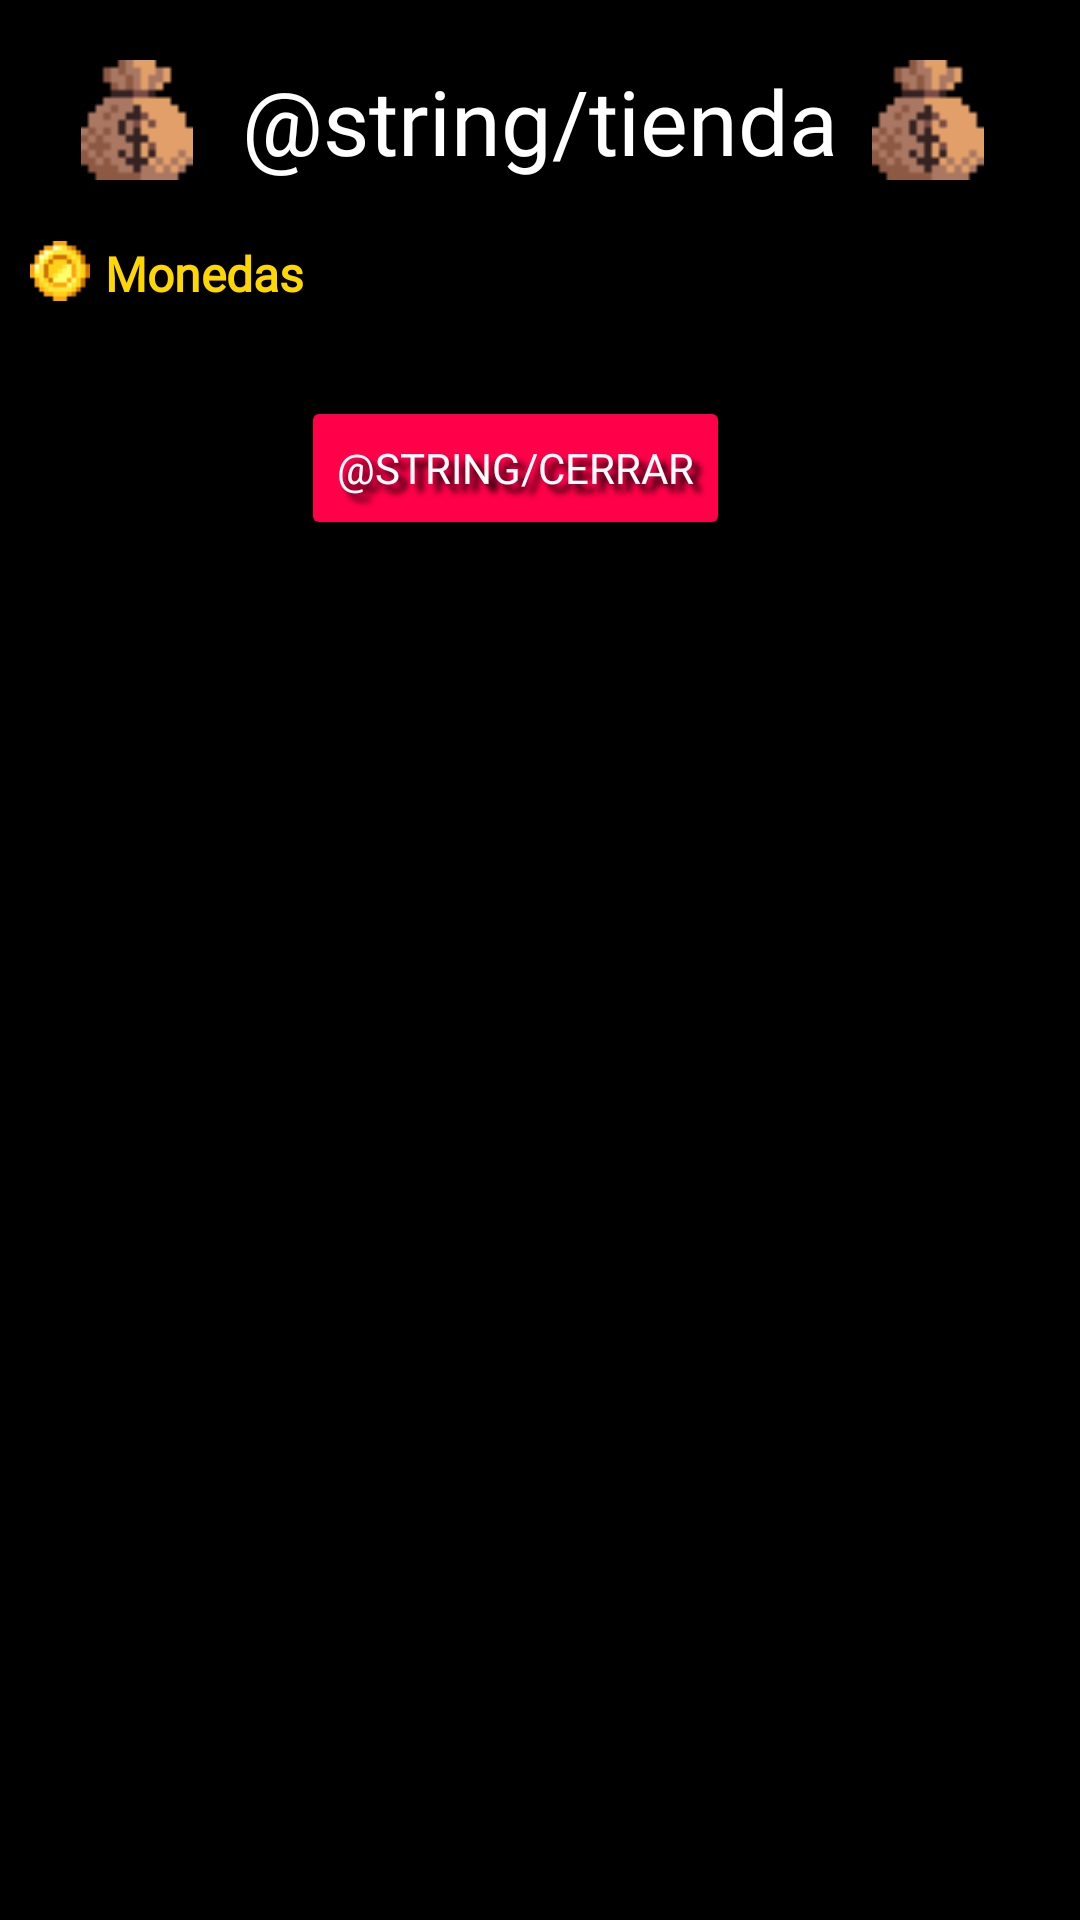

Screen size 1080 x 1920. Icon name, then its box in pixels as [x1=x1, y1=y1, x2=x2, y2=y2]:
coin: [x1=30, y1=241, x2=90, y2=301]
